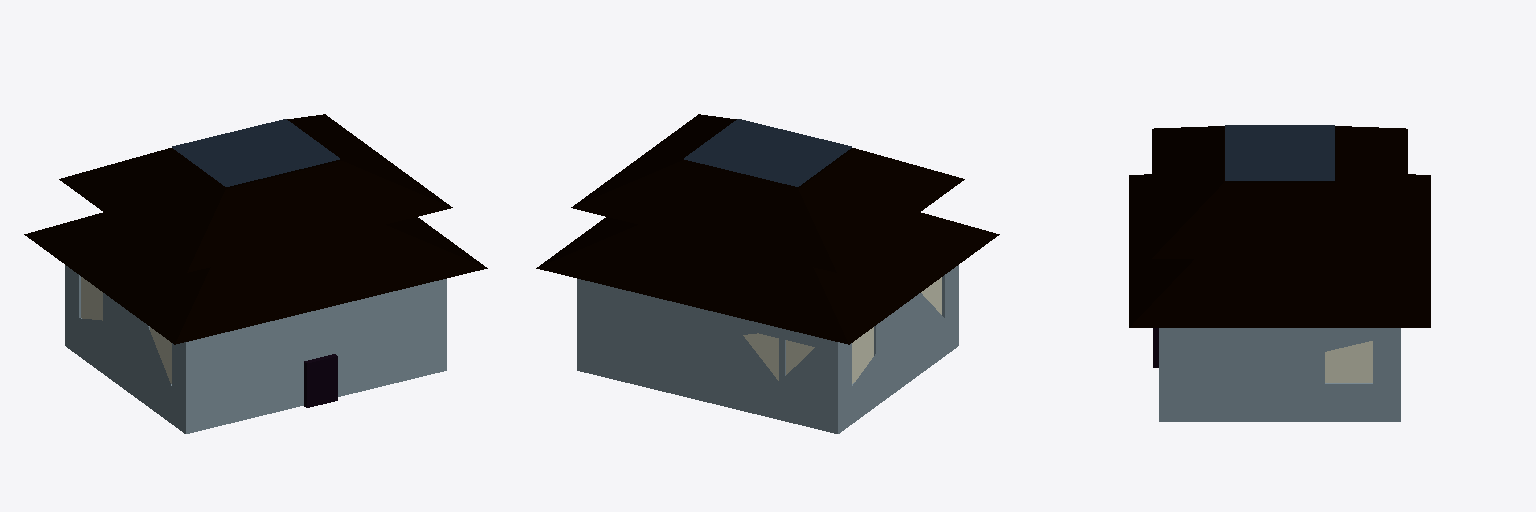
Rendered from house-v3.obj.
3 views of the same model, side by side, from view 1: azimuth 30°, elevation 25°; view 2: azimuth 150°, elevation 25°; view 3: azimuth 270°, elevation 25° (orthographic).
Visible parts, largest first — view 1: Cube.001, Cube, Plane, door; view 2: Cube.001, Cube, Plane; view 3: Cube.001, Cube, Plane.
Boxes of the visible parts, x1,y1,x2,y2 form: Cube.001: [24, 114, 487, 344]; Cube: [65, 265, 446, 433]; Plane: [172, 119, 339, 186]; door: [304, 354, 337, 407]; Cube.001: [536, 114, 999, 344]; Cube: [577, 265, 958, 433]; Plane: [684, 119, 851, 186]; Cube.001: [1129, 126, 1430, 327]; Cube: [1159, 328, 1400, 421]; Plane: [1225, 125, 1334, 180].
Size of the model in its own units: 12 by 7.54 by 10.